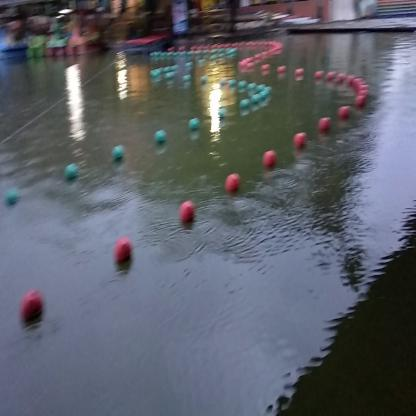green_buoy: (65, 166, 78, 182), (6, 189, 20, 203), (112, 146, 124, 162), (154, 131, 166, 145), (190, 118, 198, 129)
red_buoy: (19, 293, 43, 326), (116, 235, 132, 265), (225, 173, 242, 196), (179, 202, 196, 225), (262, 150, 278, 169), (338, 106, 350, 118), (294, 135, 305, 147), (318, 118, 328, 131), (356, 94, 363, 106)
